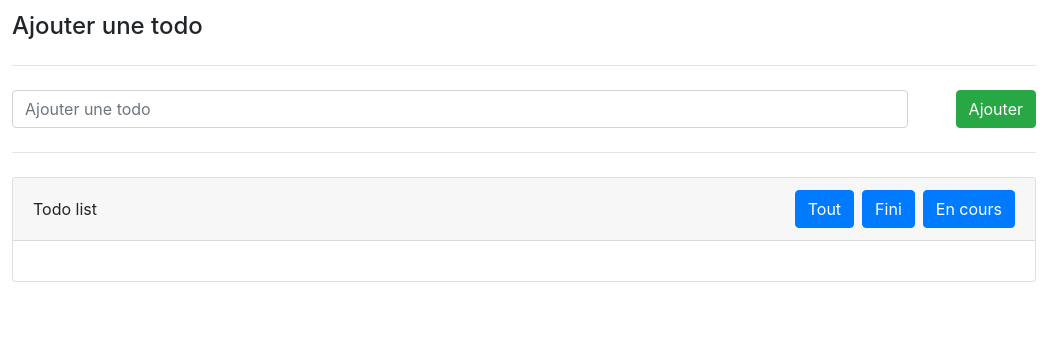
Scenario: <Todo /> › should add a todo
Type "test todo" into the field with placeholder "Ajouter une todo" at (460, 109), box [12,90,908,128]
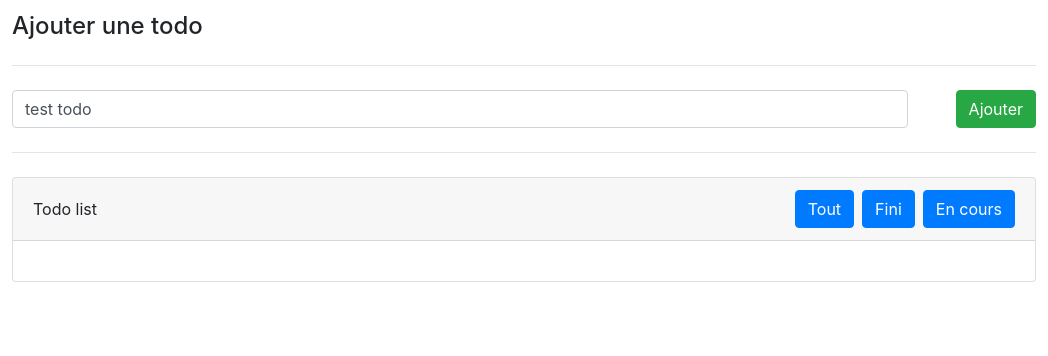
Click the button "Ajouter" at (996, 109), box [956,90,1036,128]
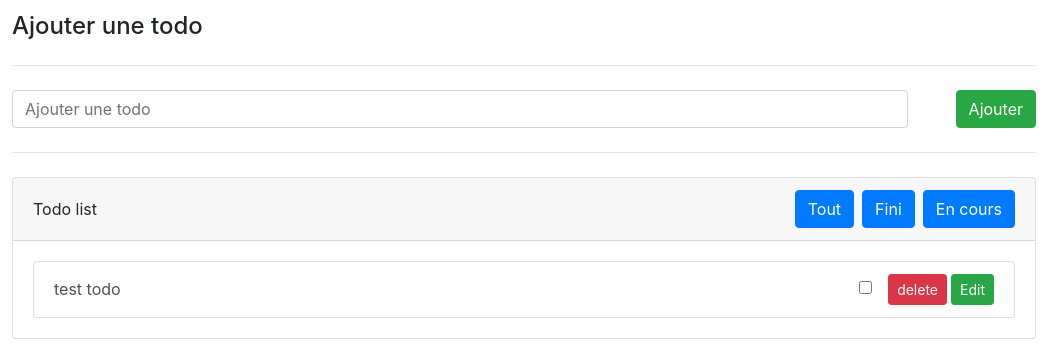
Check: the text "test todo" is shown, box [54,277,121,301]
